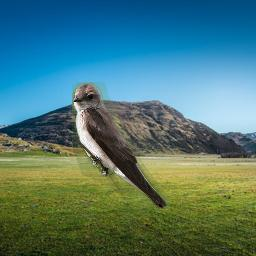Swallow: (72, 82, 170, 211)
